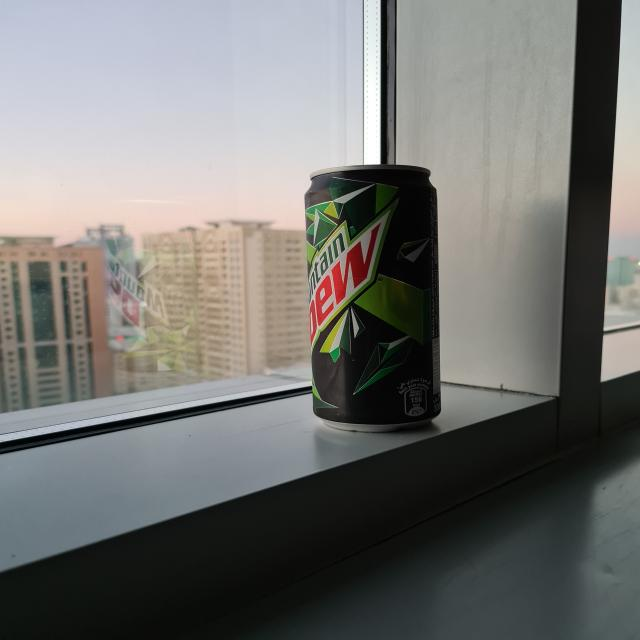non-organic waste: (289, 164, 455, 445)
